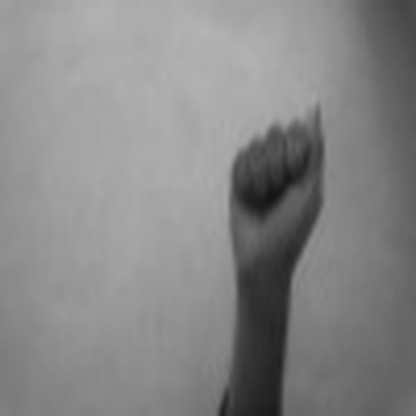a: (207, 94, 346, 263)
